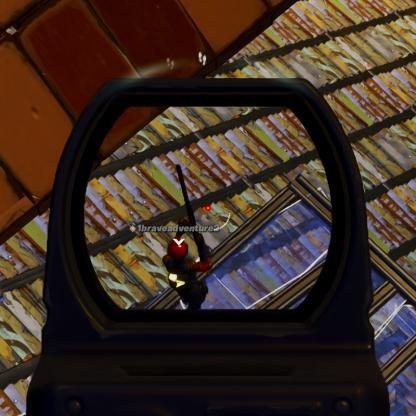person: (165, 236, 207, 308)
